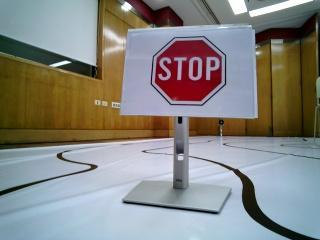stop: (130, 34, 248, 117)
